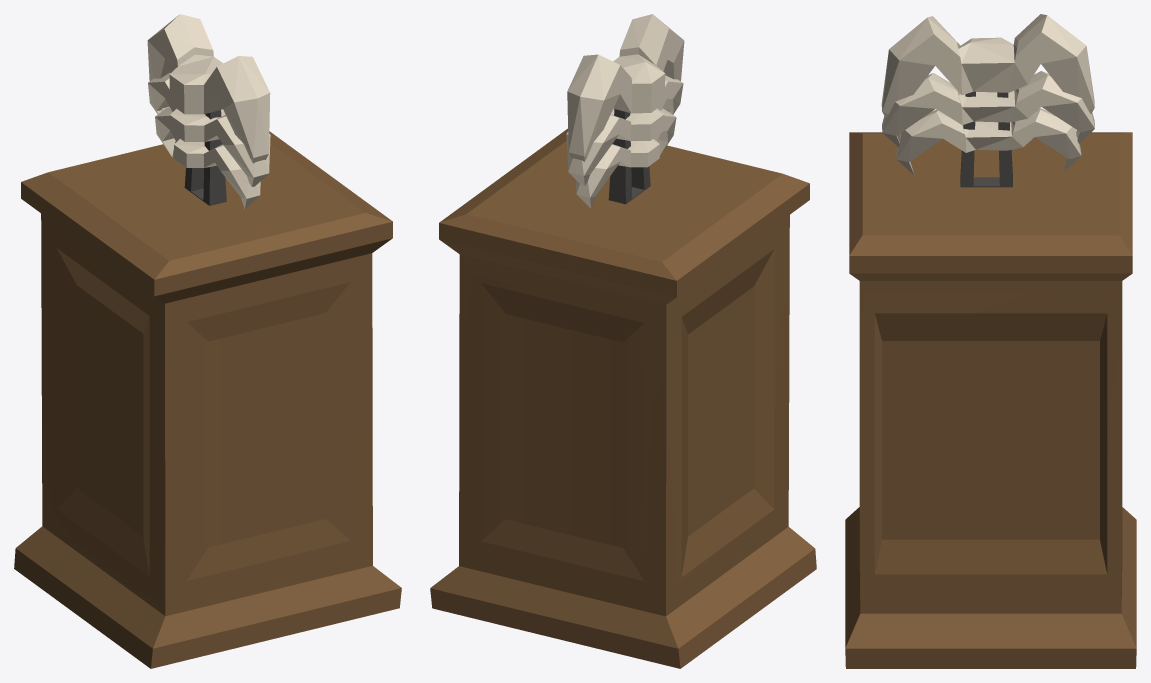
The model's file is gem 3 display.fbx.
3 views of the same model, side by side, from view 1: azimuth 30°, elevation 25°; view 2: azimuth 150°, elevation 25°; view 3: azimuth 270°, elevation 25° (orthographic). The views are drawn at different scales.
Parts seen in each view (by area): view 1: pCube80, pCube81, pCube82, pCube83, pCube84; view 2: pCube80, pCube81, pCube82, pCube83, pCube84; view 3: pCube80, pCube81, pCube82, pCube83, pCube84.
Part boxes in pixels (bbox=[...]): pCube80: bbox=[14, 131, 401, 668]; pCube81: bbox=[147, 14, 270, 163]; pCube82: bbox=[148, 73, 270, 186]; pCube83: bbox=[155, 107, 260, 209]; pCube84: bbox=[184, 110, 226, 205]; pCube80: bbox=[430, 128, 816, 668]; pCube81: bbox=[567, 14, 684, 161]; pCube82: bbox=[566, 75, 683, 185]; pCube83: bbox=[575, 108, 676, 208]; pCube84: bbox=[608, 109, 650, 204]; pCube80: bbox=[845, 132, 1136, 668]; pCube81: bbox=[881, 14, 1094, 142]; pCube82: bbox=[882, 71, 1094, 147]; pCube83: bbox=[896, 108, 1081, 175]; pCube84: bbox=[960, 91, 1012, 187].
Size of the model in its own units: 1.86 by 3.93 by 1.76.
